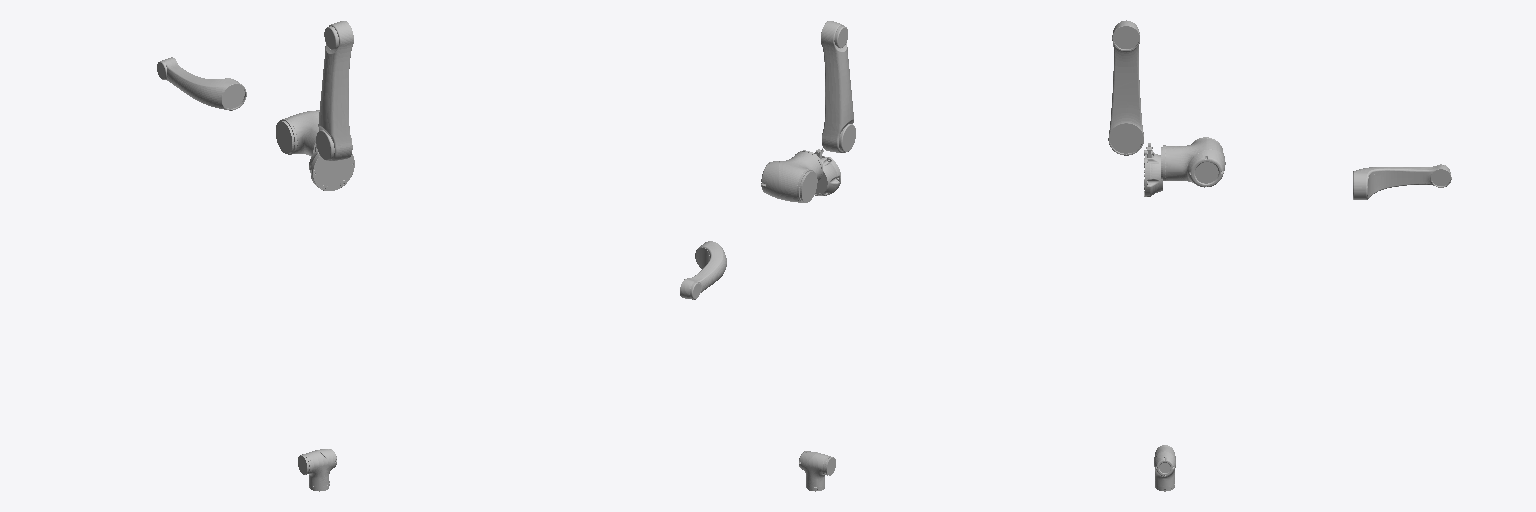
robot.urdf — E10-pro_20230227:
<?xml version="1.0" encoding="utf-8"?>
<!-- This URDF was automatically created by SolidWorks to URDF Exporter! Originally created by Stephen Brawner (brawner@gmail.com) 
     Commit Version: 1.6.0-1-g15f4949  Build Version: 1.6.7594.29634
     For more information, please see http://wiki.ros.org/sw_urdf_exporter -->
<robot
  name="E10-pro_20230227">
  <link
    name="elfin_base_link">
    <inertial>
      <origin
        xyz="-0.00226511349377665 4.35718066723652E-06 0.0325128562537015"
        rpy="0 0 0" />
      <mass
        value="1.66727740473724" />
      <inertia
        ixx="0.004269288474386"
        ixy="6.02518130623891E-08"
        ixz="-6.92087963593712E-05"
        iyy="0.00385585336301628"
        iyz="-5.51423740998797E-08"
        izz="0.0068204473327682" />
    </inertial>
    <visual>
      <origin
        xyz="0 0 0"
        rpy="0 0 0" />
      <geometry>
        <mesh
          filename="./meshes/elfin_base_link.STL" />
      </geometry>
      <material
        name="">
        <color
          rgba="0.752941176470588 0.752941176470588 0.752941176470588 1" />
      </material>
    </visual>
    <collision>
      <origin
        xyz="0 0 0"
        rpy="0 0 0" />
      <geometry>
        <mesh
          filename="./meshes/elfin_base_link.STL" />
      </geometry>
    </collision>
  </link>
  <link
    name="elfin_link1">
    <inertial>
      <origin
        xyz="7.61162863471139E-07 -0.00300107309756385 -0.0432743915921637"
        rpy="0 0 0" />
      <mass
        value="6.3589066662676" />
      <inertia
        ixx="0.0391771076676677"
        ixy="5.46819690041348E-08"
        ixz="4.18972540516105E-07"
        iyy="0.0381555138034643"
        iyz="0.00661206821297882"
        izz="0.0211340101406971" />
    </inertial>
    <visual>
      <origin
        xyz="0 0 0"
        rpy="0 0 0" />
      <geometry>
        <mesh
          filename="./meshes/elfin_link1.STL" />
      </geometry>
      <material
        name="">
        <color
          rgba="0.752941176470588 0.752941176470588 0.752941176470588 1" />
      </material>
    </visual>
    <collision>
      <origin
        xyz="0 0 0"
        rpy="0 0 0" />
      <geometry>
        <mesh
          filename="./meshes/elfin_link1.STL" />
      </geometry>
    </collision>
  </link>
  <joint
    name="elfin_joint1"
    type="revolute">
    <origin
      xyz="0 0 0.26"
      rpy="0 0 0" />
    <parent
      link="elfin_base_link" />
    <child
      link="elfin_link1" />
    <axis
      xyz="0 0 1" />
    <limit
      lower="0"
      upper="0"
      effort="0"
      velocity="0" />
  </joint>
  <link
    name="elfin_link2">
    <inertial>
      <origin
        xyz="-1.29217317440483E-07 0.204406209458582 0.145205671136993"
        rpy="0 0 0" />
      <mass
        value="5.51072381215317" />
      <inertia
        ixx="0.140886684844275"
        ixy="-1.98882818733045E-05"
        ixz="1.28793862225364E-06"
        iyy="0.00904523320332792"
        iyz="0.00556623571013066"
        izz="0.143882970137024" />
    </inertial>
    <visual>
      <origin
        xyz="0 0 0"
        rpy="0 0 0" />
      <geometry>
        <mesh
          filename="./meshes/elfin_link2.STL" />
      </geometry>
      <material
        name="">
        <color
          rgba="0.752941176470588 0.752941176470588 0.752941176470588 1" />
      </material>
    </visual>
    <collision>
      <origin
        xyz="0 0 0"
        rpy="0 0 0" />
      <geometry>
        <mesh
          filename="./meshes/elfin_link2.STL" />
      </geometry>
    </collision>
  </link>
  <joint
    name="elfin_joint2"
    type="revolute">
    <origin
      xyz="0 0 0"
      rpy="1.5708 0 0" />
    <parent
      link="elfin_link1" />
    <child
      link="elfin_link2" />
    <axis
      xyz="0 0 -1" />
    <limit
      lower="0"
      upper="0"
      effort="0"
      velocity="0" />
  </joint>
  <link
    name="elfin_link3">
    <inertial>
      <origin
        xyz="0.0357493010718184 -2.74303937812098E-06 -0.00431107040244649"
        rpy="0 0 0" />
      <mass
        value="3.25128088148268" />
      <inertia
        ixx="0.0071227385015826"
        ixy="4.14573354701168E-07"
        ixz="-0.00240614658407673"
        iyy="0.0131139013038093"
        iyz="-1.5385826183284E-07"
        izz="0.0123861174875263" />
    </inertial>
    <visual>
      <origin
        xyz="0 0 0"
        rpy="0 0 0" />
      <geometry>
        <mesh
          filename="./meshes/elfin_link3.STL" />
      </geometry>
      <material
        name="">
        <color
          rgba="0.752941176470588 0.752941176470588 0.752941176470588 1" />
      </material>
    </visual>
    <collision>
      <origin
        xyz="0 0 0"
        rpy="0 0 0" />
      <geometry>
        <mesh
          filename="./meshes/elfin_link3.STL" />
      </geometry>
    </collision>
  </link>
  <joint
    name="elfin_joint3"
    type="revolute">
    <origin
      xyz="0 0.48 0.0001"
      rpy="-3.1416 0 1.5708" />
    <parent
      link="elfin_link2" />
    <child
      link="elfin_link3" />
    <axis
      xyz="0 0 1" />
    <limit
      lower="0"
      upper="0"
      effort="0"
      velocity="0" />
  </joint>
  <link
    name="elfin_link4">
    <inertial>
      <origin
        xyz="4.00422619806443E-06 -0.0642407946168694 0.298291714132776"
        rpy="0 0 0" />
      <mass
        value="2.50748550399061" />
      <inertia
        ixx="0.0366678922182935"
        ixy="2.01780639224561E-07"
        ixz="1.74716906310344E-06"
        iyy="0.0331442649385175"
        iyz="0.00878594933101389"
        izz="0.00698385038225708" />
    </inertial>
    <visual>
      <origin
        xyz="0 0 0"
        rpy="0 0 0" />
      <geometry>
        <mesh
          filename="./meshes/elfin_link4.STL" />
      </geometry>
      <material
        name="">
        <color
          rgba="0.752941176470588 0.752941176470588 0.752941176470588 1" />
      </material>
    </visual>
    <collision>
      <origin
        xyz="0 0 0"
        rpy="0 0 0" />
      <geometry>
        <mesh
          filename="./meshes/elfin_link4.STL" />
      </geometry>
    </collision>
  </link>
  <joint
    name="elfin_joint4"
    type="revolute">
    <origin
      xyz="0 0 0"
      rpy="1.5708 0 1.5708" />
    <parent
      link="elfin_link3" />
    <child
      link="elfin_link4" />
    <axis
      xyz="0 0 -1" />
    <limit
      lower="0"
      upper="0"
      effort="0"
      velocity="0" />
  </joint>
  <link
    name="elfin_link5">
    <inertial>
      <origin
        xyz="5.37084468021837E-06 -0.0262437975997385 -0.00343971824098017"
        rpy="0 0 0" />
      <mass
        value="1.39234539037872" />
      <inertia
        ixx="0.0033625821599978"
        ixy="2.21090591006108E-07"
        ixz="-5.59693839842731E-07"
        iyy="0.00182229285631246"
        iyz="0.000639319386824375"
        izz="0.00292731816323284" />
    </inertial>
    <visual>
      <origin
        xyz="0 0 0"
        rpy="0 0 0" />
      <geometry>
        <mesh
          filename="./meshes/elfin_link5.STL" />
      </geometry>
      <material
        name="">
        <color
          rgba="0.752941176470588 0.752941176470588 0.752941176470588 1" />
      </material>
    </visual>
    <collision>
      <origin
        xyz="0 0 0"
        rpy="0 0 0" />
      <geometry>
        <mesh
          filename="./meshes/elfin_link5.STL" />
      </geometry>
    </collision>
  </link>
  <joint
    name="elfin_joint5"
    type="revolute">
    <origin
      xyz="0 0 0.52"
      rpy="-1.5708 0 0" />
    <parent
      link="elfin_link4" />
    <child
      link="elfin_link5" />
    <axis
      xyz="0 0 -1" />
    <limit
      lower="0"
      upper="0"
      effort="0"
      velocity="0" />
  </joint>
  <link
    name="elfin_link6">
    <inertial>
      <origin
        xyz="-0.000223419892434035 -0.000503545919359016 0.155489622216108"
        rpy="0 0 0" />
      <mass
        value="0.119080209337947" />
      <inertia
        ixx="8.08550872901422E-05"
        ixy="-7.46173009805169E-09"
        ixz="2.21279422199851E-07"
        iyy="8.32324966499315E-05"
        iyz="-1.33289933354814E-07"
        izz="0.000151523047618214" />
    </inertial>
    <visual>
      <origin
        xyz="0 0 0"
        rpy="0 0 0" />
      <geometry>
        <mesh
          filename="./meshes/elfin_link6.STL" />
      </geometry>
      <material
        name="">
        <color
          rgba="0.792156862745098 0.819607843137255 0.933333333333333 1" />
      </material>
    </visual>
    <collision>
      <origin
        xyz="0 0 0"
        rpy="0 0 0" />
      <geometry>
        <mesh
          filename="./meshes/elfin_link6.STL" />
      </geometry>
    </collision>
  </link>
  <joint
    name="elfin_joint6"
    type="revolute">
    <origin
      xyz="0 0 0"
      rpy="1.5708 0 0" />
    <parent
      link="elfin_link5" />
    <child
      link="elfin_link6" />
    <axis
      xyz="0 0 -1" />
    <limit
      lower="0"
      upper="0"
      effort="0"
      velocity="0" />
  </joint>
  <link
    name="elfin_end_link">
    <inertial>
      <origin
        xyz="-0.000223419892434032 -0.000503545919359024 -0.0365103777839941"
        rpy="0 0 0" />
      <mass
        value="0.119080209337947" />
      <inertia
        ixx="8.08550872901422E-05"
        ixy="-7.46173009805164E-09"
        ixz="2.21279422199852E-07"
        iyy="8.32324966499315E-05"
        iyz="-1.33289933354814E-07"
        izz="0.000151523047618214" />
    </inertial>
    <!-- <visual>
      <origin
        xyz="0 0 0"
        rpy="0 0 0" />
      <geometry>
        <mesh
          filename="./meshes/elfin_end_link.STL" />
      </geometry>
      <material
        name="">
        <color
          rgba="0.792156862745098 0.819607843137255 0.933333333333333 1" />
      </material>
    </visual> -->
    <!-- <collision>
      <origin
        xyz="0 0 0"
        rpy="0 0 0" />
      <geometry>
        <mesh
          filename="./meshes/elfin_end_link.STL" />
      </geometry>
    </collision> -->
  </link>
  <joint
    name="elfin_end_joint"
    type="fixed">
    <origin
      xyz="0 0 0.192"
      rpy="0 0 0" />
    <parent
      link="elfin_link6" />
    <child
      link="elfin_end_link" />
    <axis
      xyz="0 0 0" />
  </joint>
</robot>

--- Facts derived from the render (not from the file) ---
Views: 3 orthographic renders of the robot side by side, from view 1: azimuth 30°, elevation 25°; view 2: azimuth 150°, elevation 25°; view 3: azimuth 270°, elevation 25°.
Model E10-pro_20230227 with 8 links and 7 joints (6 revolute, 1 fixed), rooted at elfin_base_link, posed every joint at zero.
Links seen in each view (by area): view 1: elfin_link2, elfin_link4, elfin_link1, elfin_base_link, elfin_link5; view 2: elfin_link2, elfin_link1, elfin_link4, elfin_link5, elfin_base_link; view 3: elfin_link2, elfin_link1, elfin_link4, elfin_link5, elfin_base_link.
Boxes of the visible links, x1=… form: elfin_link2: x1=316, y1=21, x2=353, y2=160; elfin_link4: x1=157, y1=57, x2=246, y2=110; elfin_link1: x1=276, y1=110, x2=319, y2=156; elfin_base_link: x1=309, y1=151, x2=354, y2=190; elfin_link5: x1=298, y1=449, x2=336, y2=491; elfin_link2: x1=821, y1=21, x2=855, y2=152; elfin_link1: x1=761, y1=150, x2=822, y2=202; elfin_link4: x1=680, y1=241, x2=726, y2=299; elfin_link5: x1=799, y1=451, x2=835, y2=491; elfin_base_link: x1=814, y1=148, x2=840, y2=195; elfin_link2: x1=1108, y1=20, x2=1143, y2=155; elfin_link1: x1=1161, y1=137, x2=1225, y2=187; elfin_link4: x1=1353, y1=164, x2=1451, y2=199; elfin_link5: x1=1154, y1=445, x2=1175, y2=491; elfin_base_link: x1=1144, y1=143, x2=1162, y2=196.
Size in the robot's own frame: 228 by 1457 by 2179 metres.
Meshes: 7 distinct files referenced, 5 mesh visuals loaded (5 binary STL); not drawn: 2 (reference not matched to a file when rendering).
